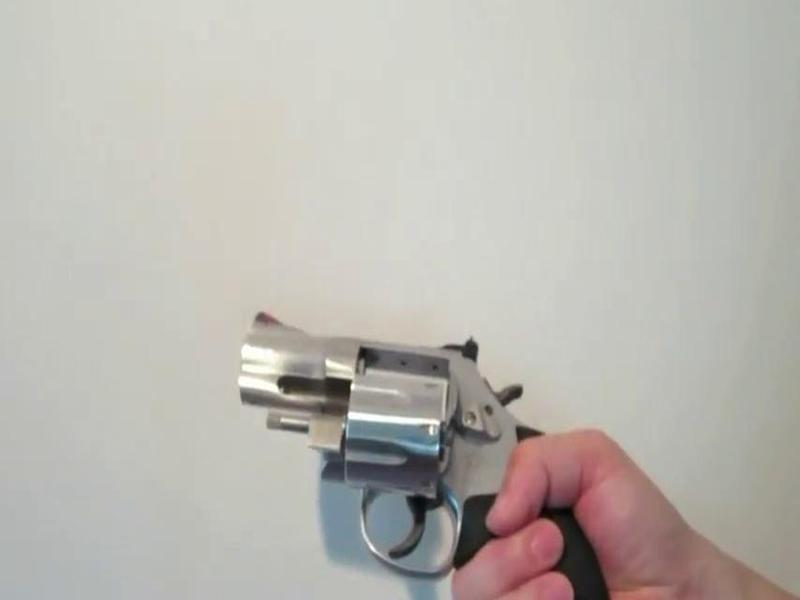Revolver: (225, 305, 584, 600)
